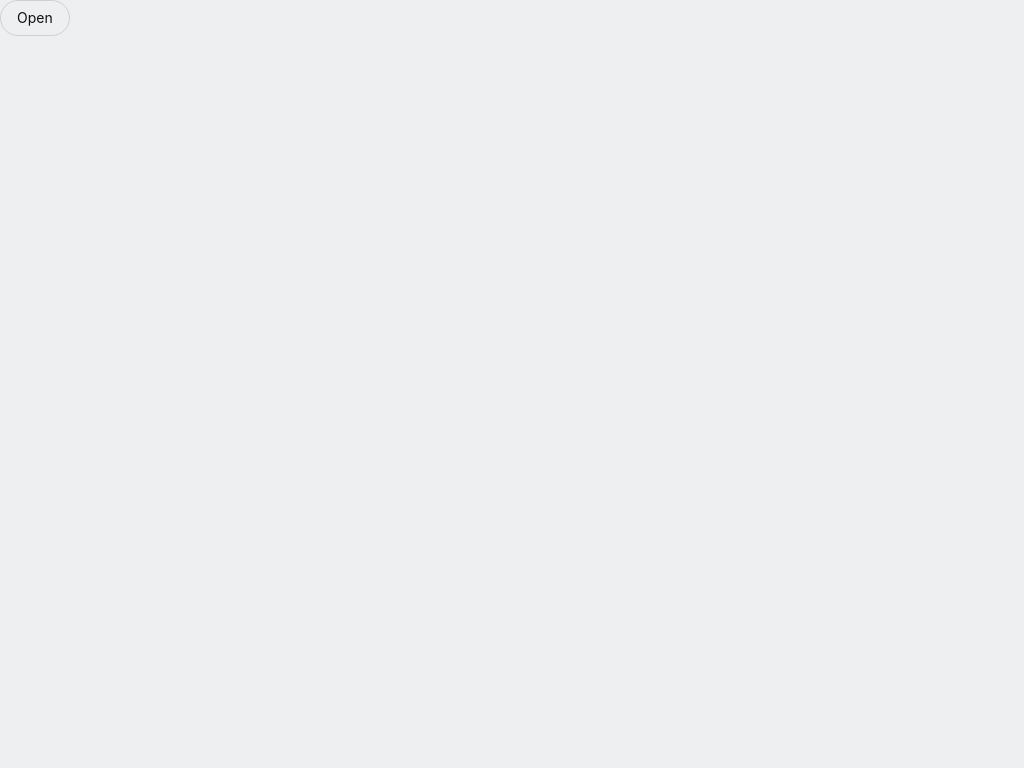
Test case: Dialog › closes with Escape and with a click outside
Click the button "Open" at (35, 18), box [0,0,70,36]
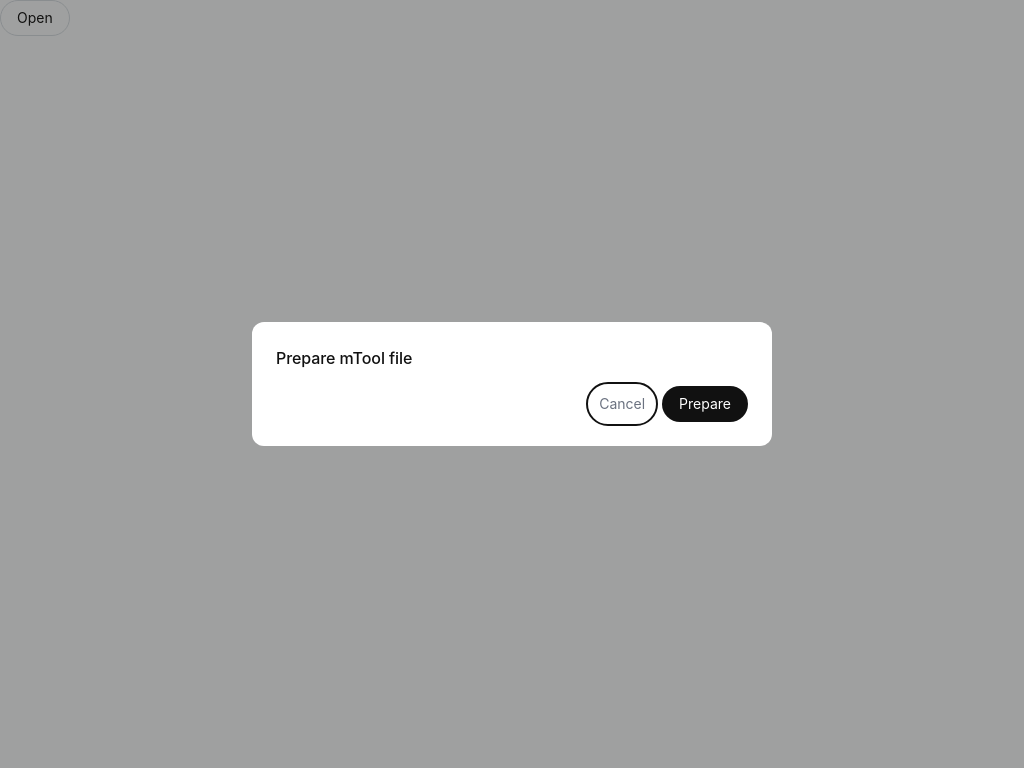
Press Escape in the dialog, box [252,322,772,446]
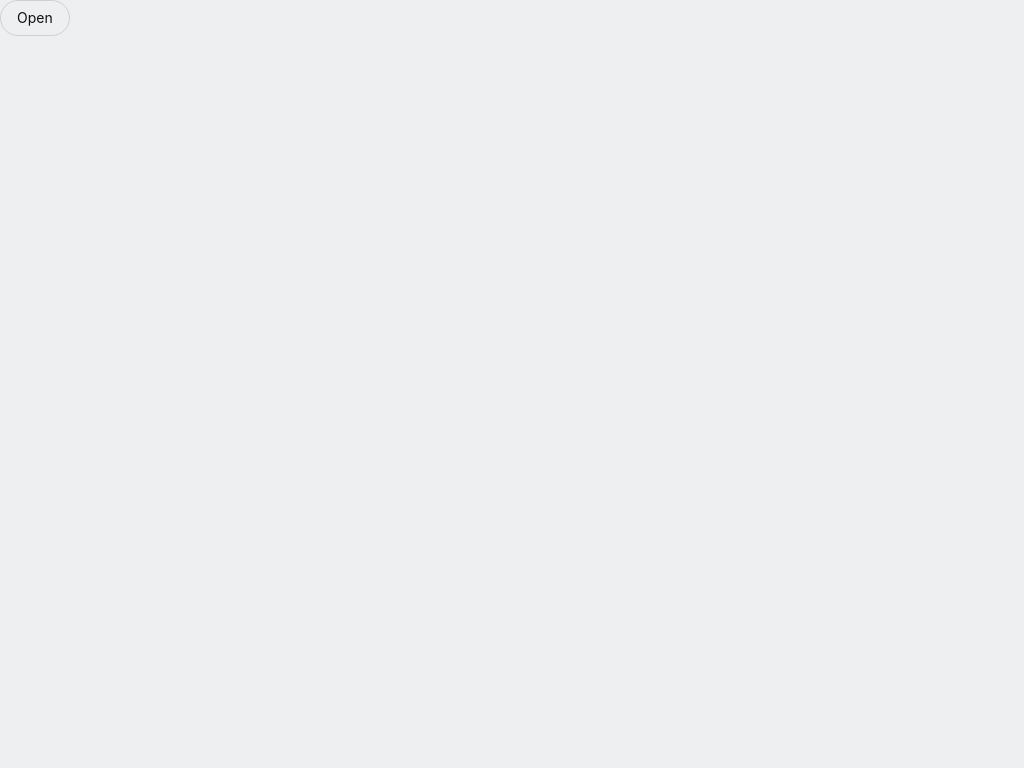
expect the dialog is gone: met
Click the button "Open" at (35, 18), box [0,0,70,36]
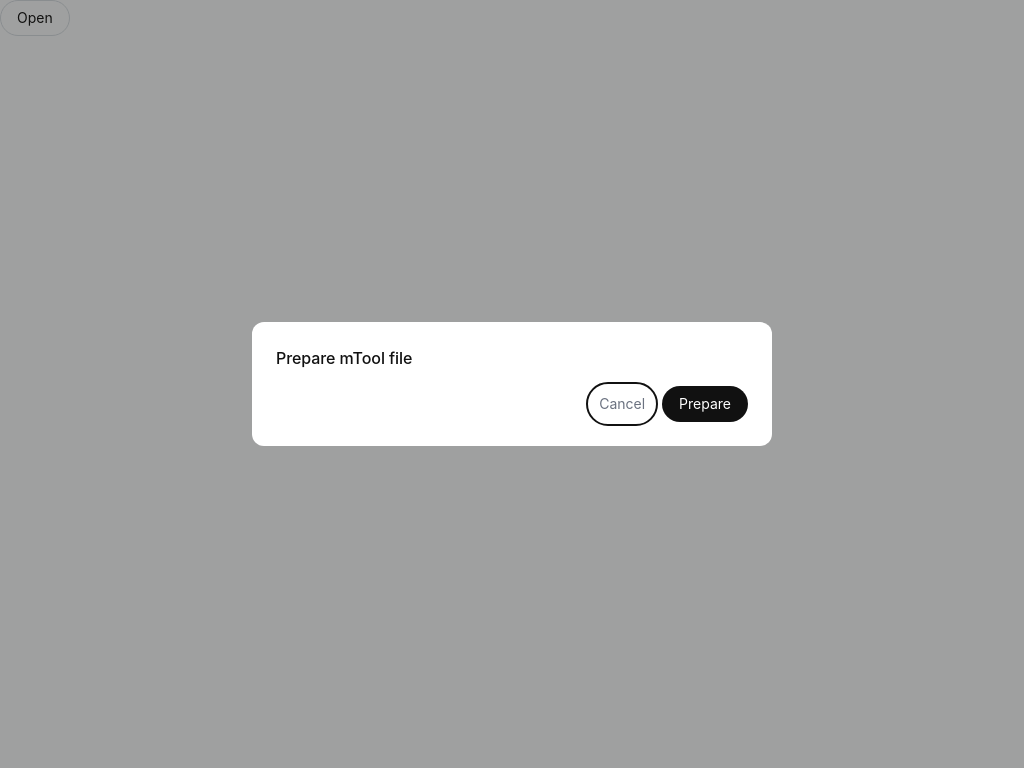
Press the mouse on the element showing "Prepare mTool file Cancel Prepare" at (512, 384), box [0,0,1023,767]
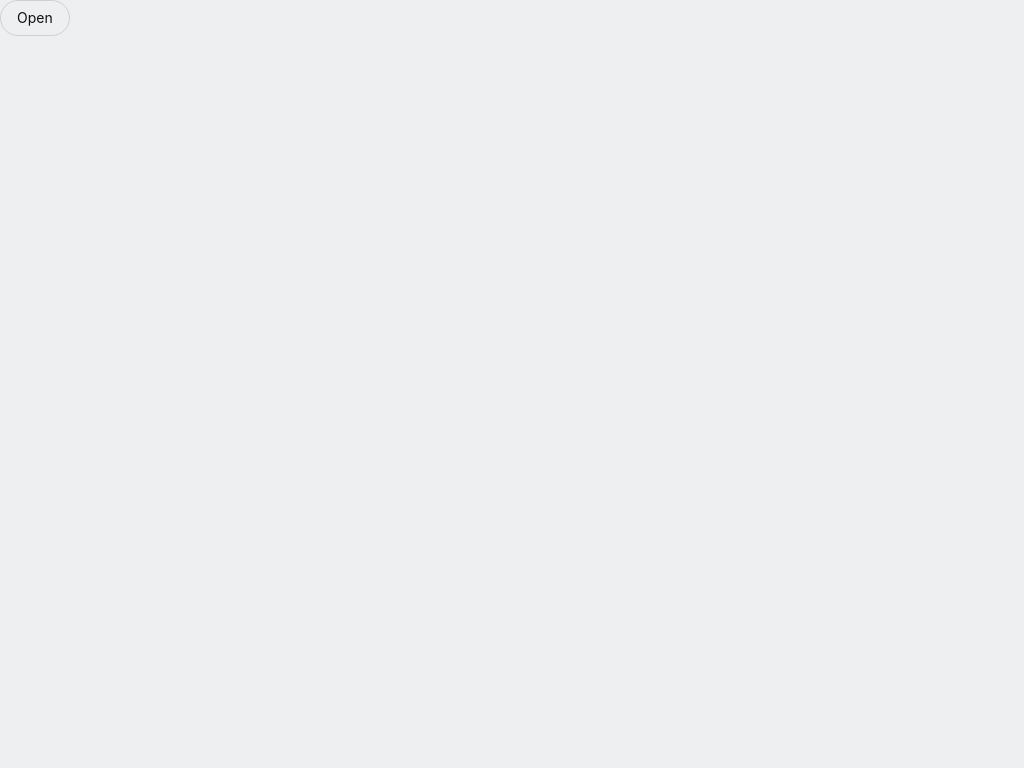
expect the dialog is gone: met
